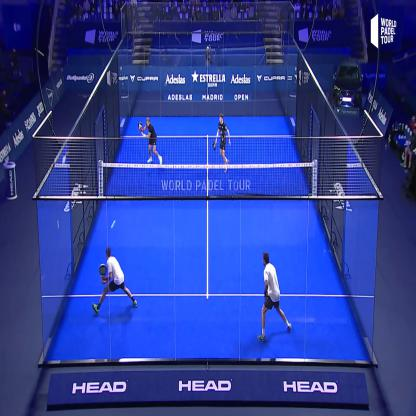ball: (109, 218, 118, 234)
